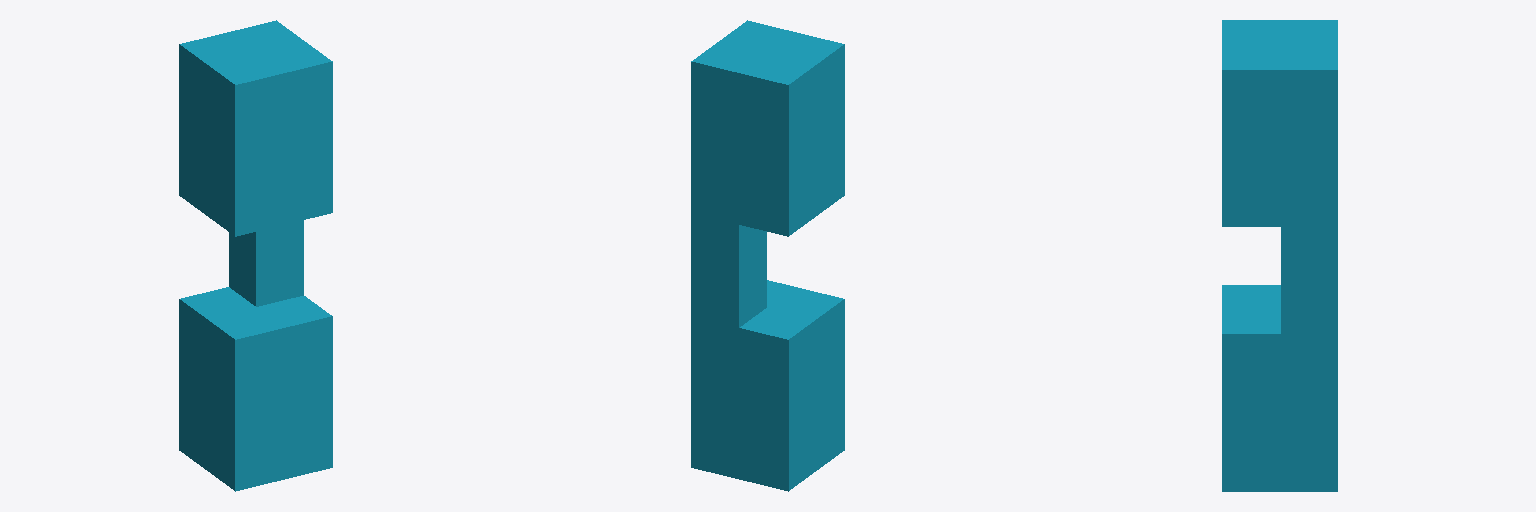
robot.urdf — obj_7:
<robot name="obj_7" version="1.0">
  <link name="obj_7">
    <collision name="interlocking-puzzle-4-1-collision.001">
      <origin rpy="0.00000 0.00000 0.00000" xyz="-0.64691 0.50143 0.48399"/>
      <geometry>
        <mesh filename="../meshes/obj/interlocking-puzzle-4-1-collision.001.obj" scale="2.09740 2.09740 2.09740"/>
      </geometry>
    </collision>
    <collision name="interlocking-puzzle-4-1-collision.002">
      <origin rpy="0.00000 0.00000 0.00000" xyz="-0.61436 0.53398 0.31890"/>
      <geometry>
        <mesh filename="../meshes/obj/interlocking-puzzle-4-1-collision.002.obj" scale="2.09740 2.09740 2.09740"/>
      </geometry>
    </collision>
    <collision name="interlocking-puzzle-4-1-collision.003">
      <origin rpy="0.00000 0.00000 0.00000" xyz="-0.64691 0.50143 0.15375"/>
      <geometry>
        <mesh filename="../meshes/obj/interlocking-puzzle-4-1-collision.003.obj" scale="2.09740 2.09740 2.08690"/>
      </geometry>
    </collision>
    <inertial>
      <inertia ixx="0.00492" ixy="-0.00001" ixz="0.00000" iyy="0.00492" iyz="0.00000" izz="0.00051"/>
      <origin rpy="0.00000 0.00000 0.00000" xyz="-0.65123 0.49711 0.31885"/>
      <mass value="0.03000"/>
    </inertial>
    <visual name="interlocking-puzzle-4-1">
      <material name="Light Blue"/>
      <origin rpy="1.57080 -1.57080 0.00000" xyz="-0.65404 0.49430 0.31885"/>
      <geometry>
        <mesh filename="../meshes/obj/interlocking-puzzle-4.obj" scale="0.01049 0.01049 0.01049"/>
      </geometry>
    </visual>
  </link>
  <material name="Light Blue">
    <color rgba="0.15294 0.68627 0.80000 1.00000"/>
  </material>
</robot>

--- What the picture shows (computed from the rendered views, not written in the file) ---
Views: 3 orthographic renders of the robot side by side, from view 1: azimuth 30°, elevation 25°; view 2: azimuth 150°, elevation 25°; view 3: azimuth 270°, elevation 25°.
Robot: obj_7 — 1 links, 0 joints (none); root link obj_7; default pose: all joints at 0.
Visible links, largest first — view 1: obj_7; view 2: obj_7; view 3: obj_7.
Link boxes in pixels (<box>): obj_7: <box>179,20,332,491</box>; obj_7: <box>691,20,844,491</box>; obj_7: <box>1222,20,1337,491</box>.
Bounding box of the posed robot: 0.1574 × 0.1574 × 0.6294 m (x, y, z).
Meshes: 1 distinct files referenced, 1 mesh visuals loaded (1 OBJ).